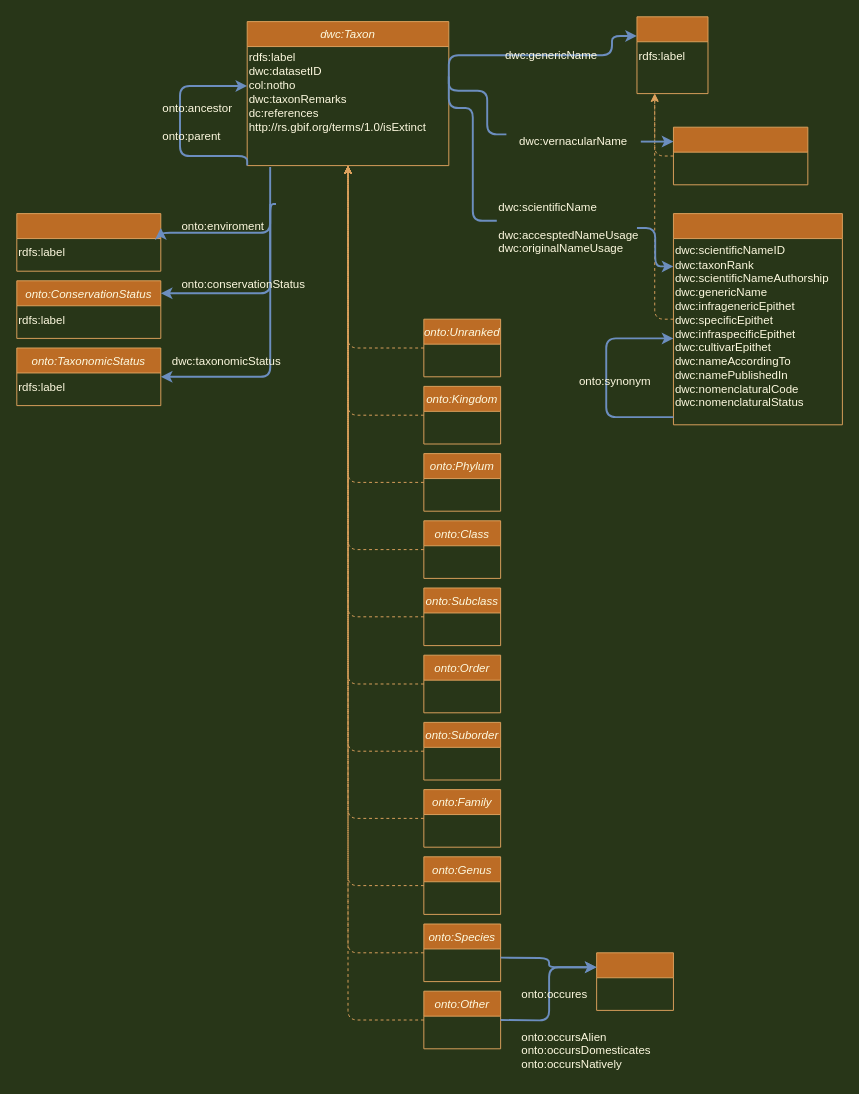
The diagram is 859 pixels wide and 1094 high, and some of its shapes have lost their labels. The box of each missing label's shape, as (x1, y1, x2, y2) in pixels:
dwc:locality: (596, 952, 673, 1010)
onto:Environment: (16, 213, 161, 271)
onto:Name: (636, 16, 708, 94)
onto:ScientificName: (672, 213, 842, 425)
onto:VernacularName: (672, 126, 808, 185)
